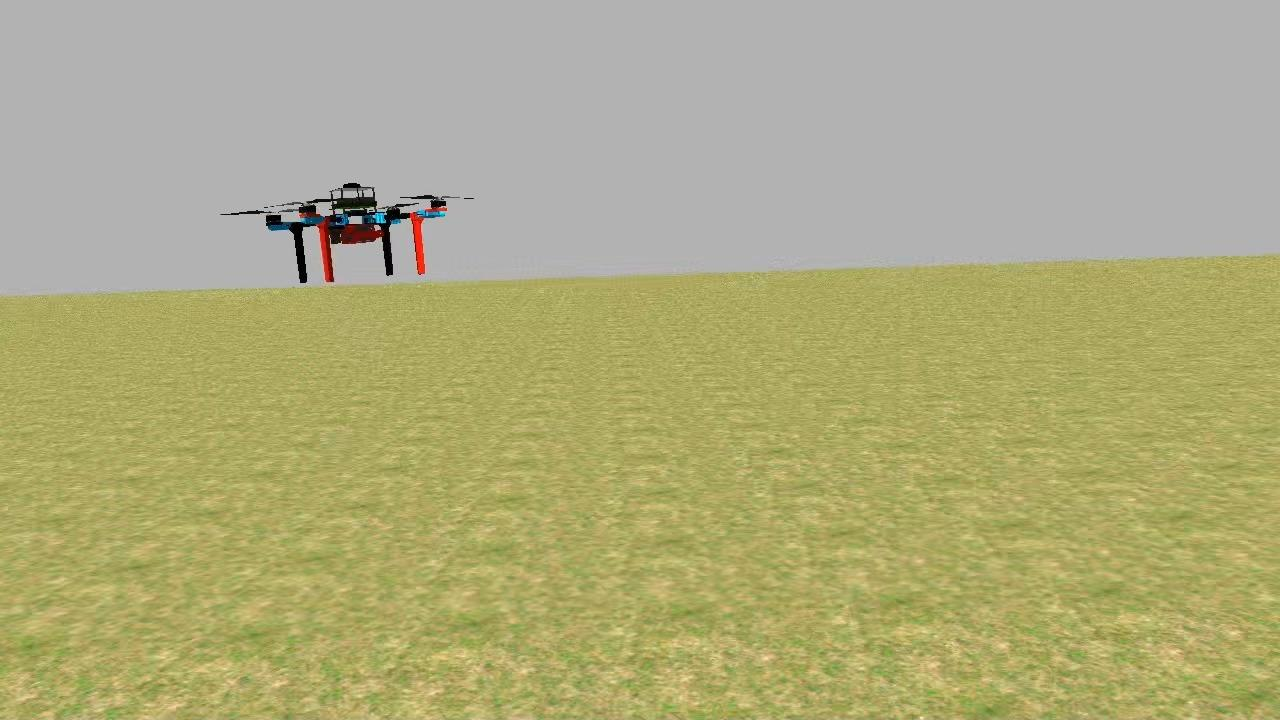UAV: (252, 176, 452, 290)
